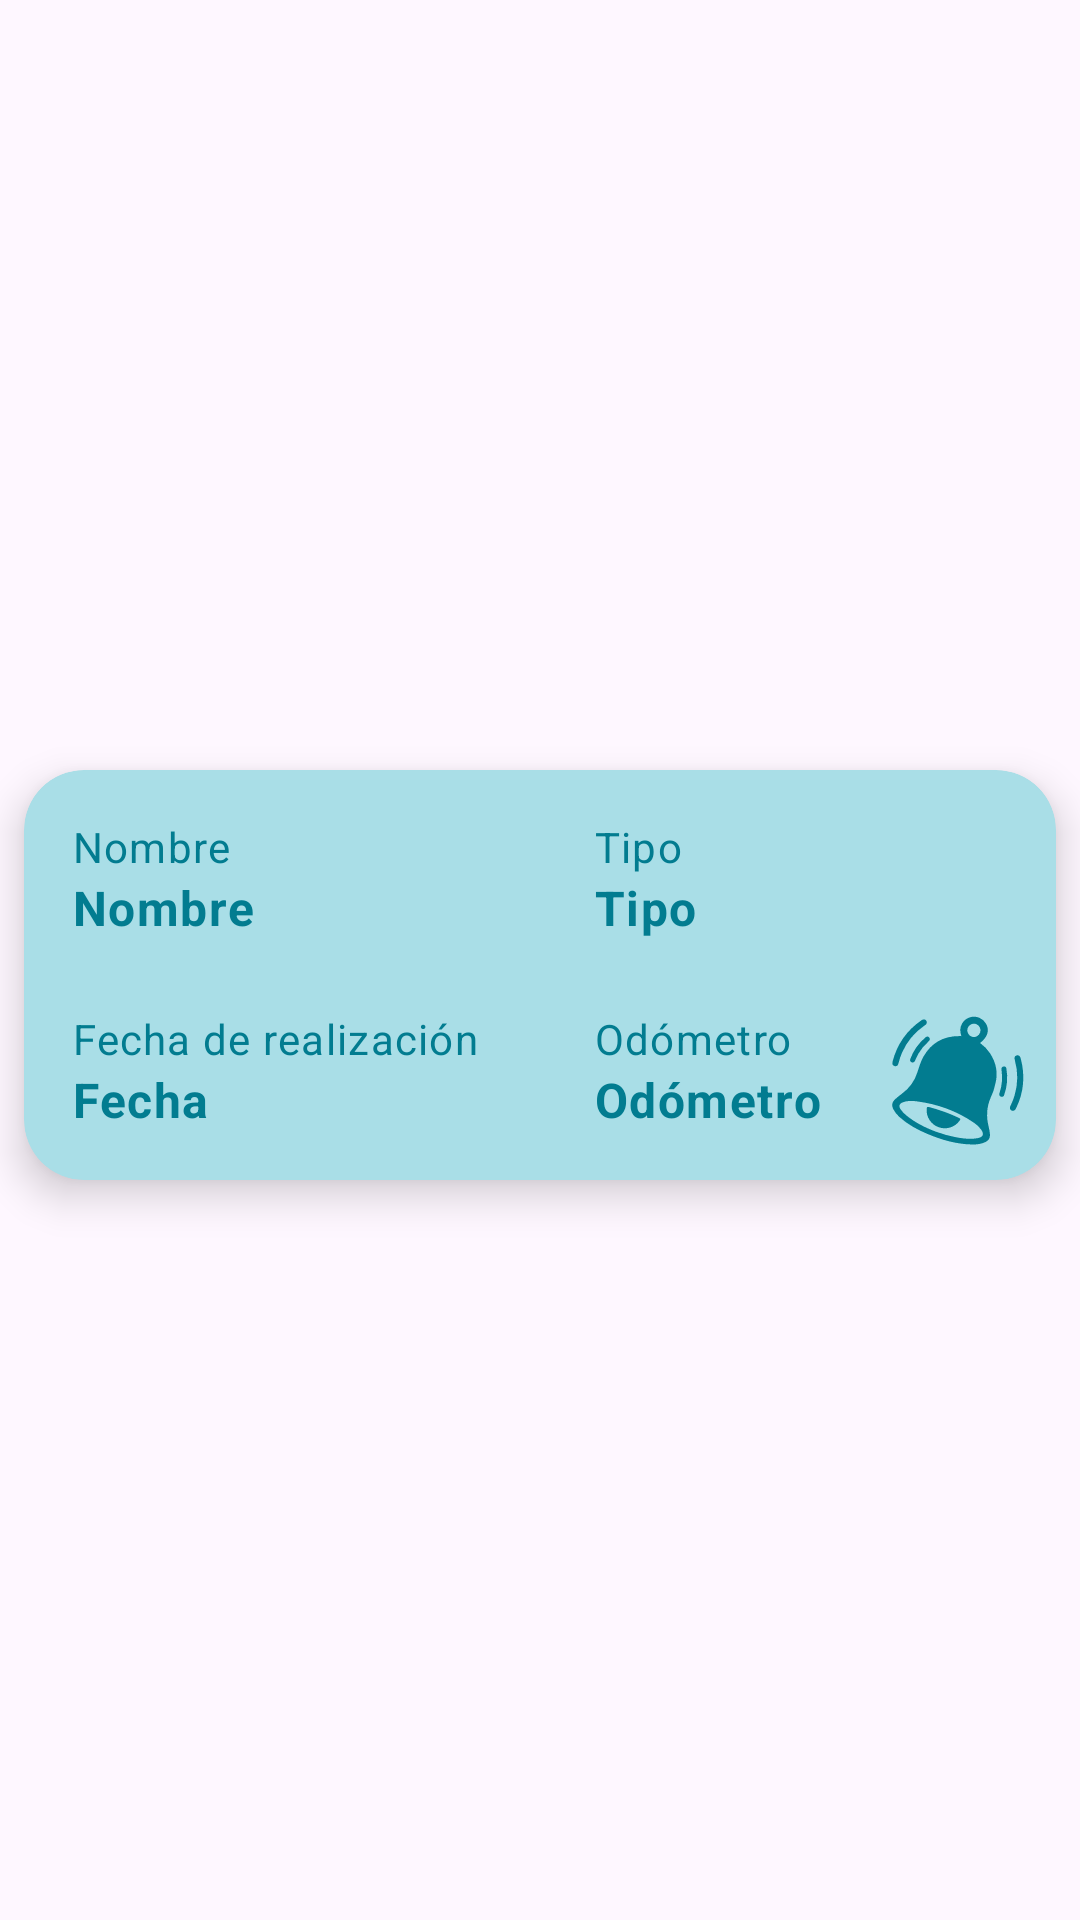

Named icons in this screenshot (1080 × 1920) and their centers, (x,y):
alert: (958,1080)
